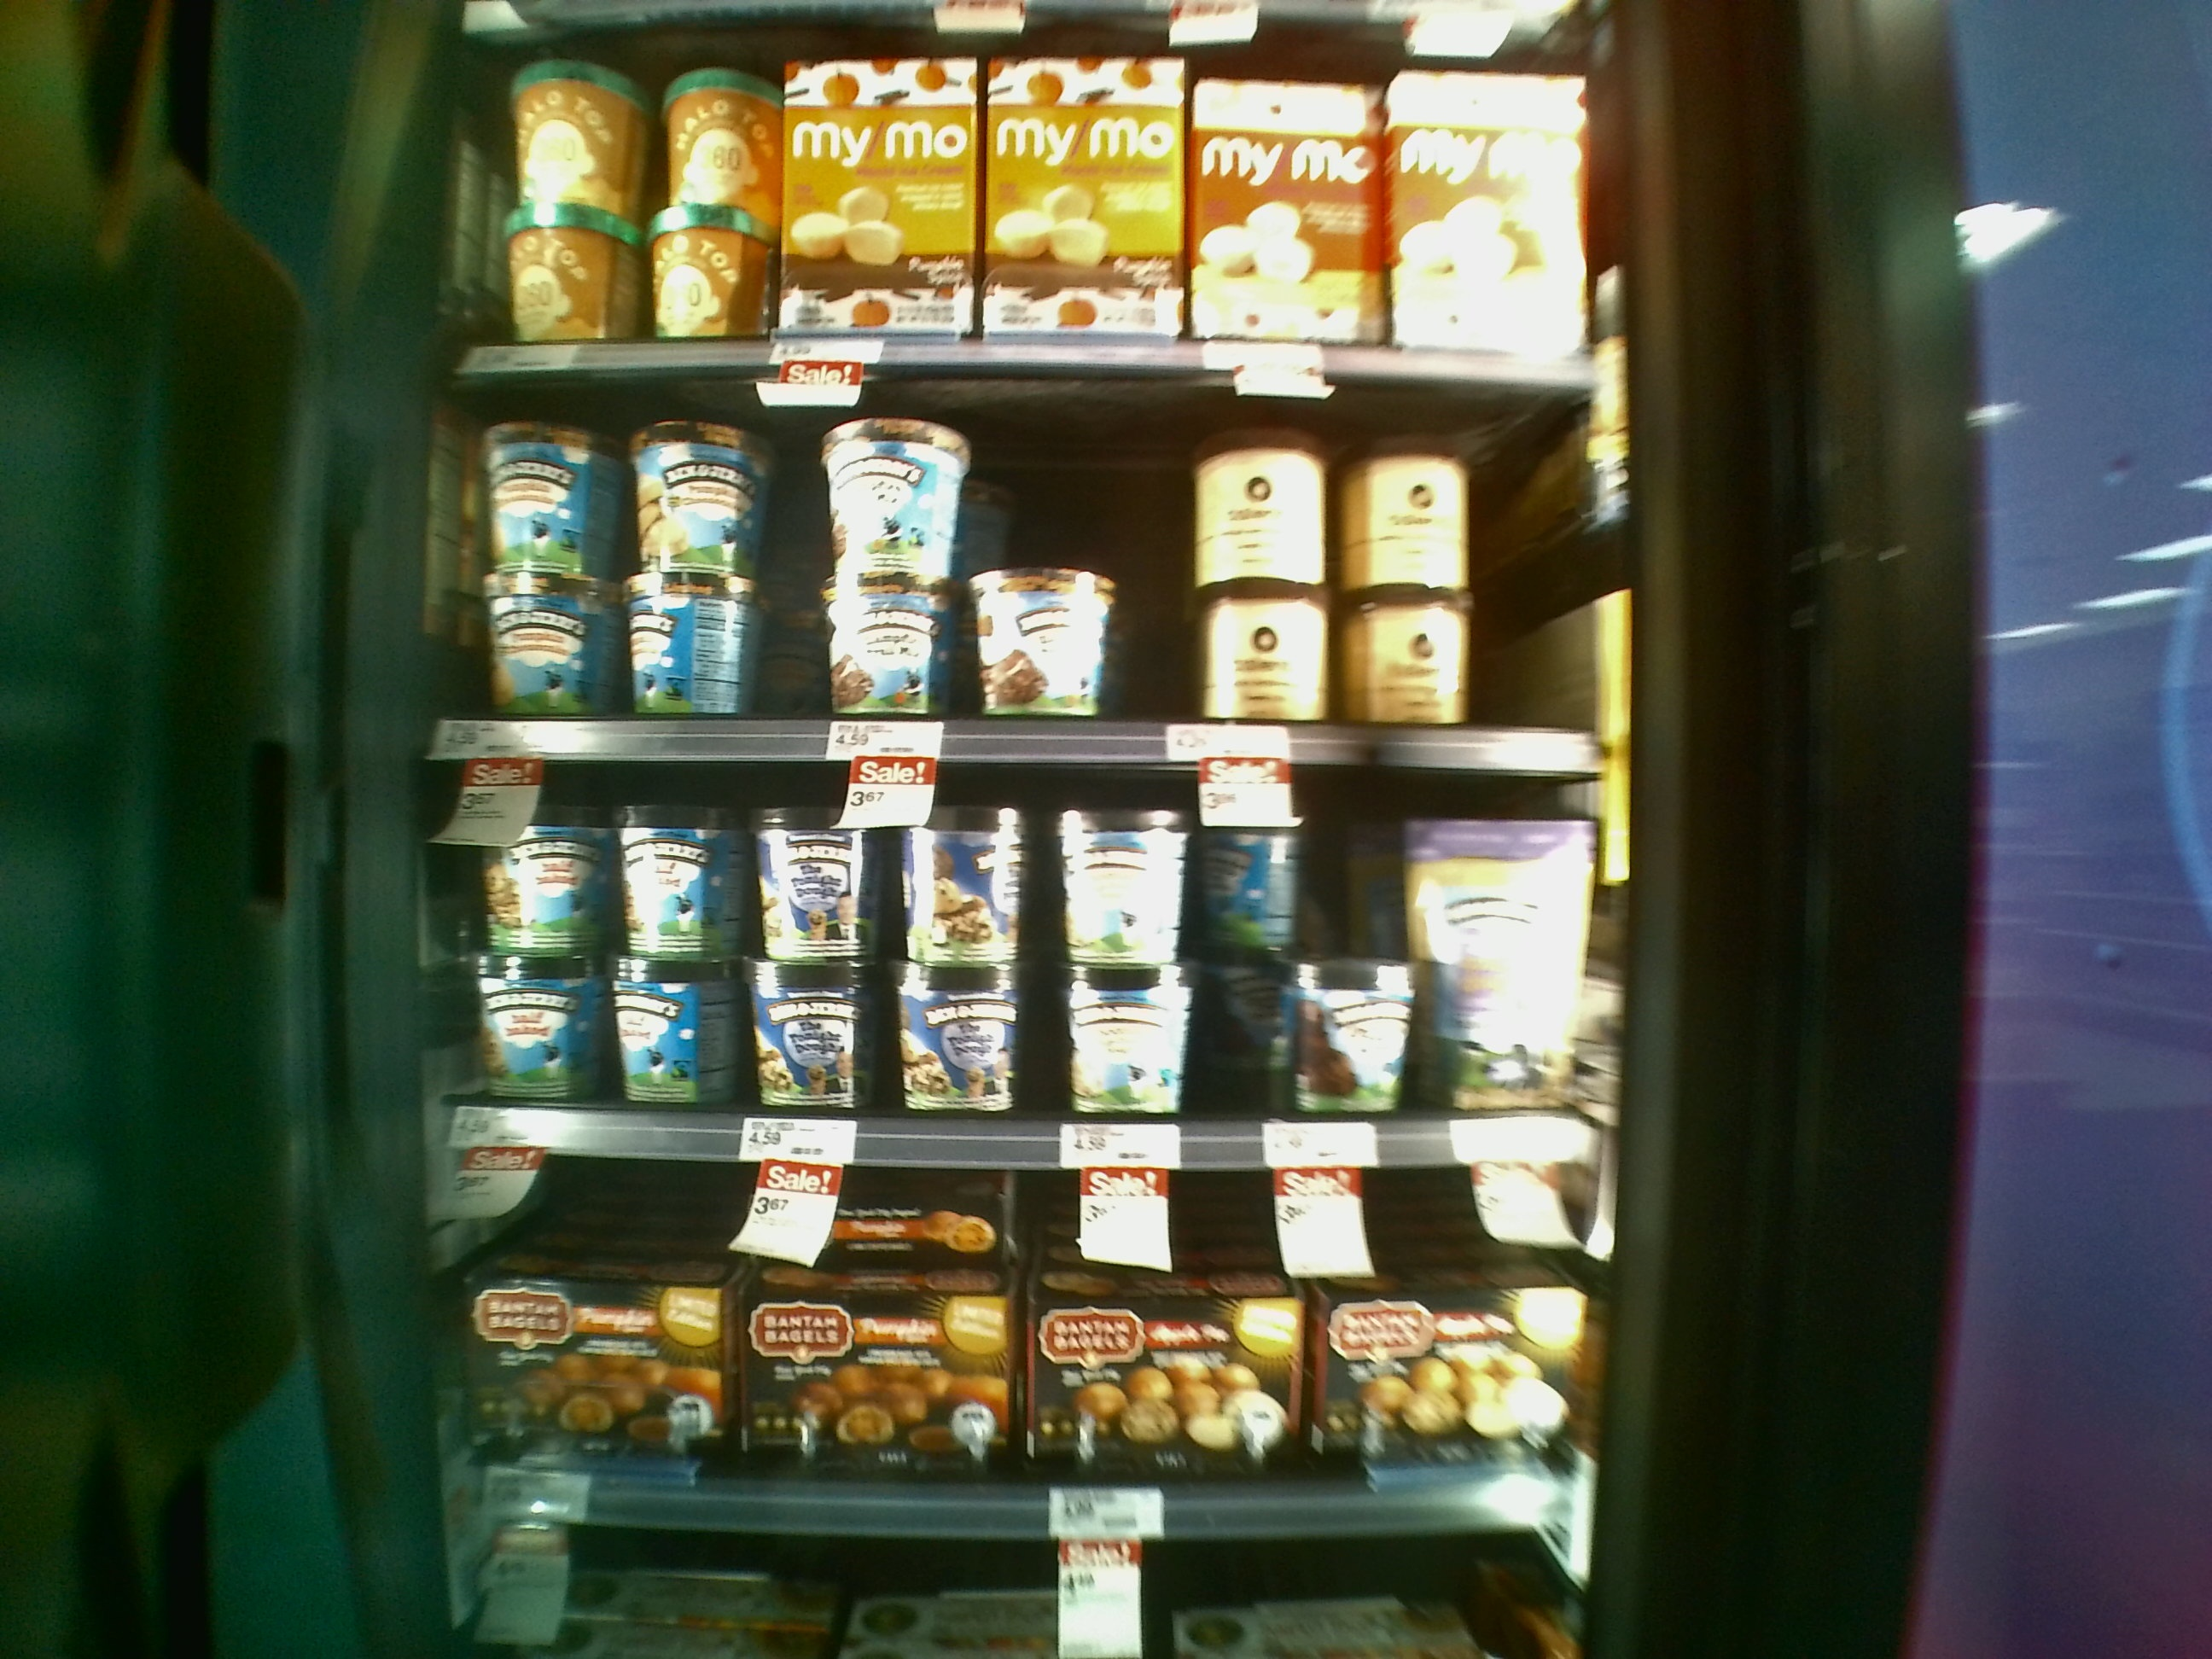shelf: (444, 373, 1609, 788), (408, 779, 1625, 1171), (439, 1145, 1578, 1549)
